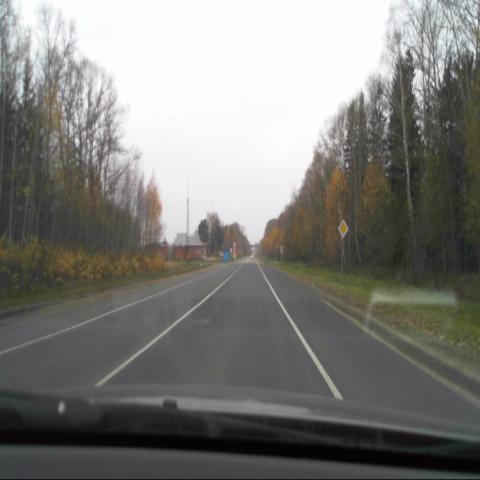2_1: (337, 218, 349, 238)
